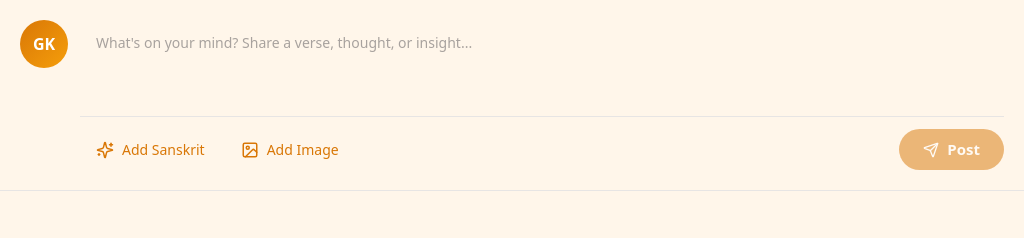
Scenario: CreatePost › shows the server error and keeps the draft
Type "draft" into the text box with placeholder "What's on your mind? Share a verse, thought, or insight...".
click(542, 59); type("draft")  # box [80,20,1004,98]
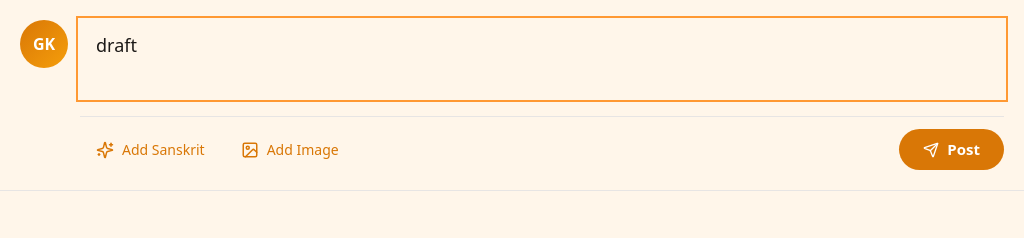
Click the button "Post".
click(952, 150)  # box [899,129,1004,170]
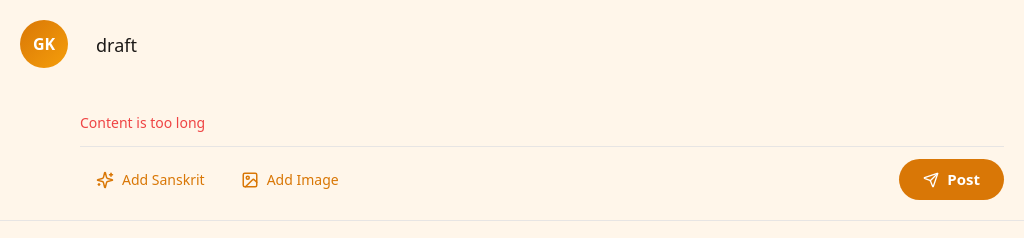
Result: the text "Content is too long" is shown at [80,113,205,132]
